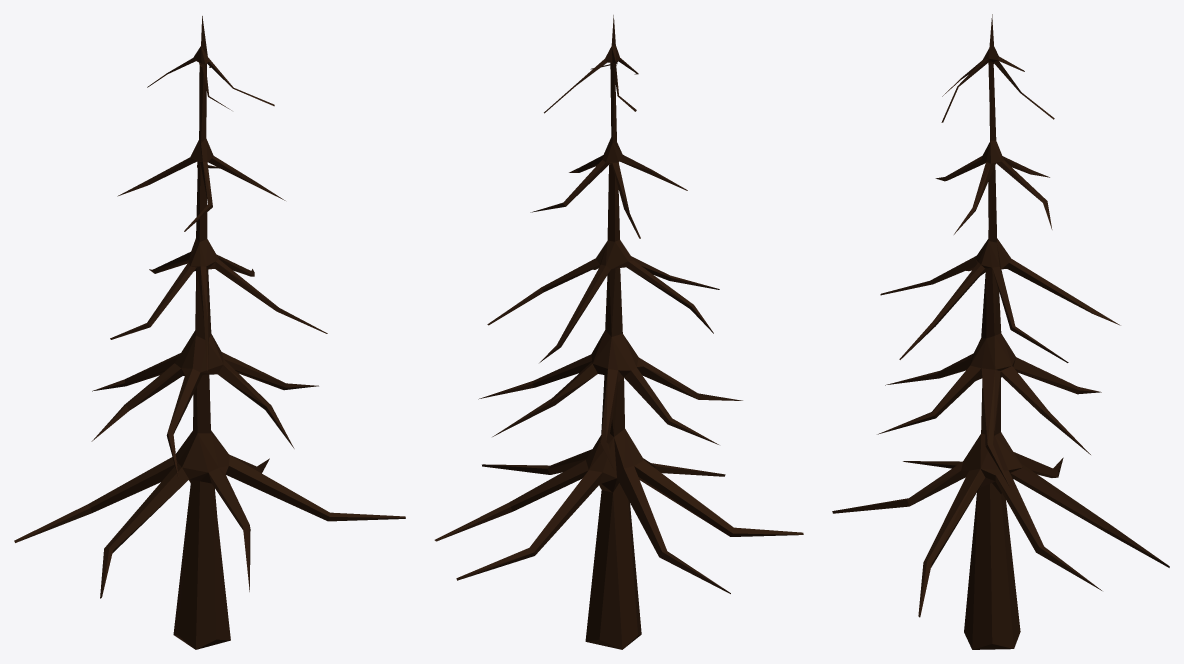
The model's file is Taiga_Tronc1.fbx.
The picture shows the model from 3 angles, left to right: view 1: azimuth 30°, elevation 25°; view 2: azimuth 150°, elevation 25°; view 3: azimuth 270°, elevation 25°; orthographic projection.
Visible parts, largest first — view 1: Vert.011; view 2: Vert.011; view 3: Vert.011.
Part boxes in pixels (x1=…): Vert.011: x1=14, y1=16, x2=405, y2=649; Vert.011: x1=434, y1=15, x2=803, y2=649; Vert.011: x1=832, y1=14, x2=1169, y2=649.
Size of the model in its own units: 252 by 476 by 229.
